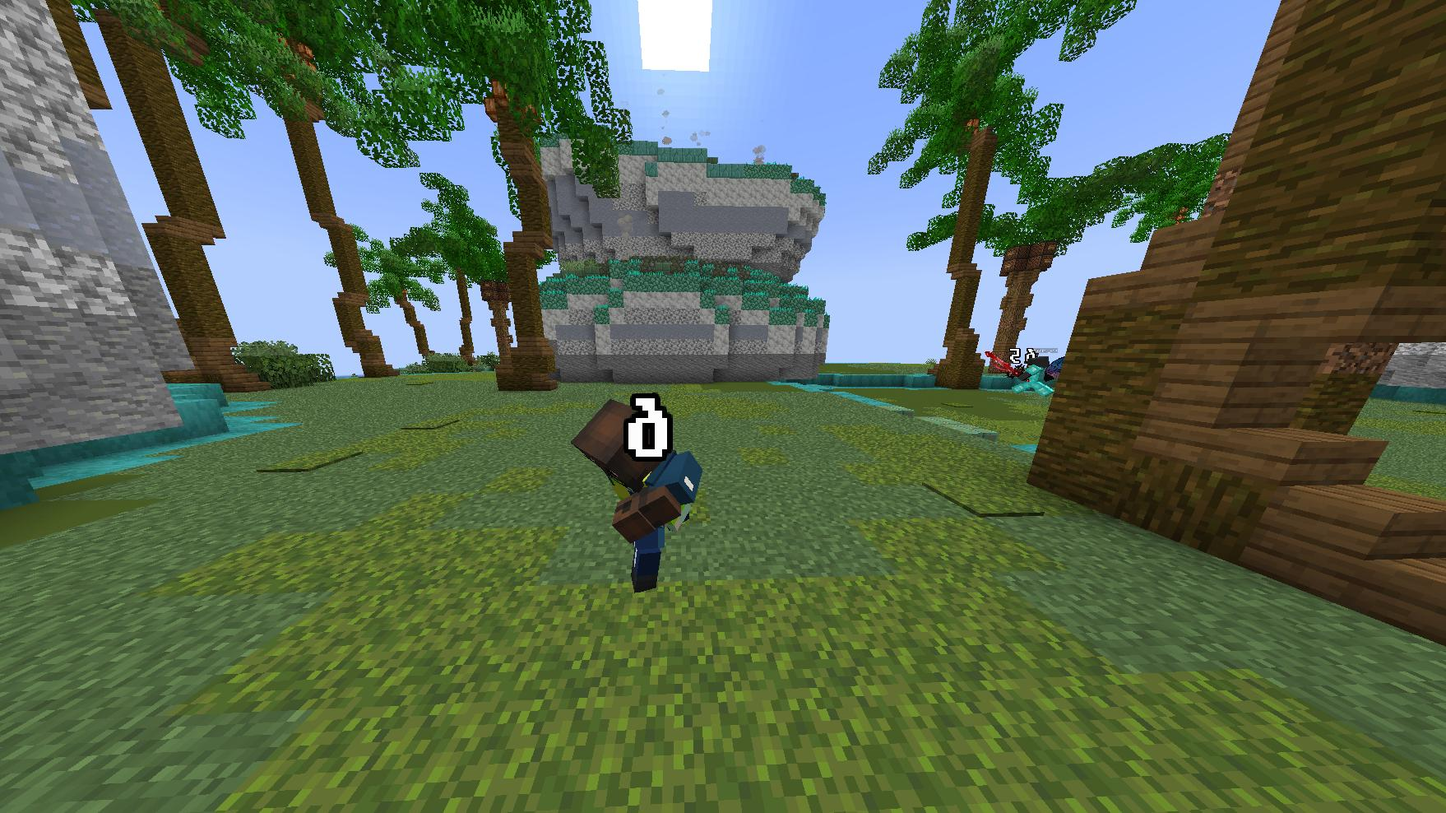Guardian: (572, 393, 702, 592)
